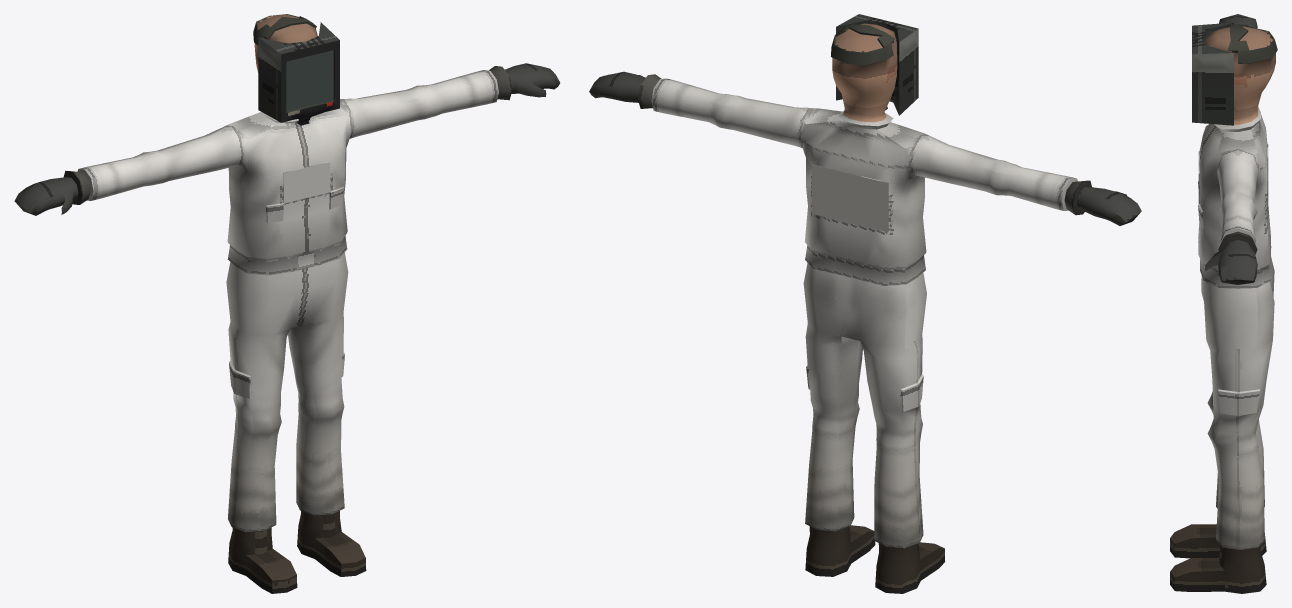
File: convict_tpose.glb
3 views of the same model, side by side, from view 1: azimuth 30°, elevation 25°; view 2: azimuth 150°, elevation 25°; view 3: azimuth 270°, elevation 25° (orthographic).
Parts seen in each view (by area): view 1: Convict; view 2: Convict; view 3: Convict.
Boxes of the visible parts, x1=… form: Convict: x1=14, y1=14, x2=560, y2=593; Convict: x1=589, y1=14, x2=1141, y2=593; Convict: x1=1170, y1=14, x2=1277, y2=593.
Size of the model in its own units: 1.85 by 1.78 by 0.3225.
Materials: 4 (2 with a texture image).
